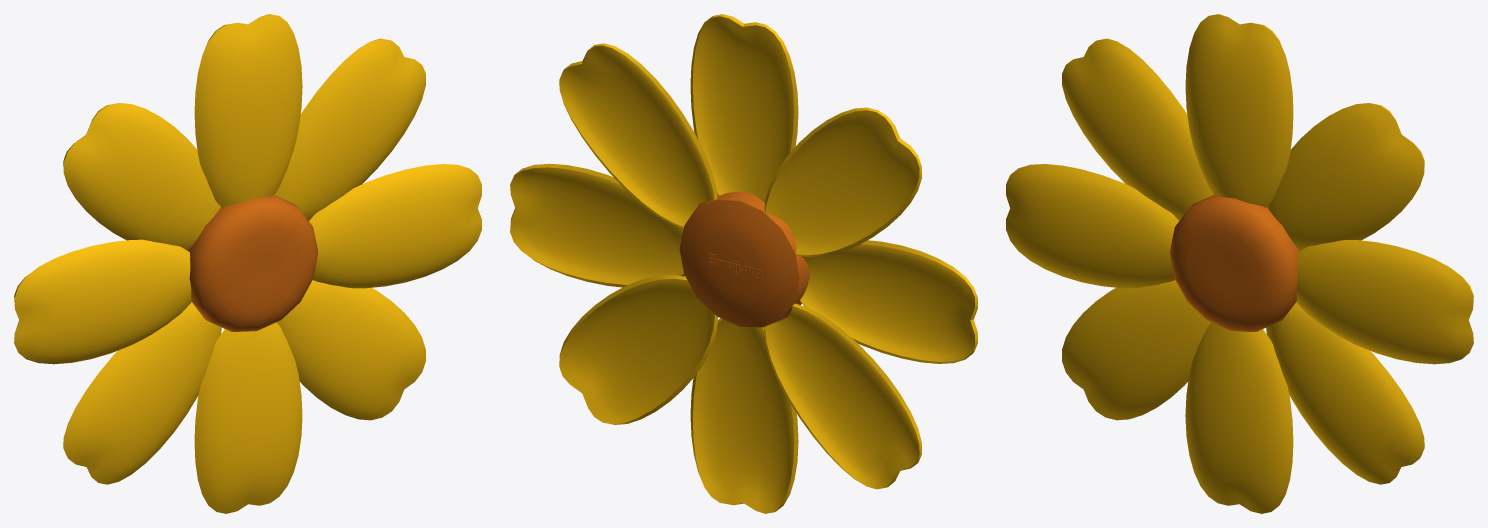
Rendered from blossom.fbx.
3 views of the same model, side by side, from view 1: azimuth 30°, elevation 25°; view 2: azimuth 150°, elevation 25°; view 3: azimuth 330°, elevation 25° (orthographic).
Visible parts, largest first — view 1: Circle.2047; view 2: Circle.2047; view 3: Circle.2047.
Part boxes in pixels (x1,y1,x2,y2): Circle.2047: [14, 14, 481, 513]; Circle.2047: [510, 14, 977, 513]; Circle.2047: [1006, 14, 1473, 513].
Size of the model in its own units: 235 by 235 by 22.39.
1 material, 1 textured.
